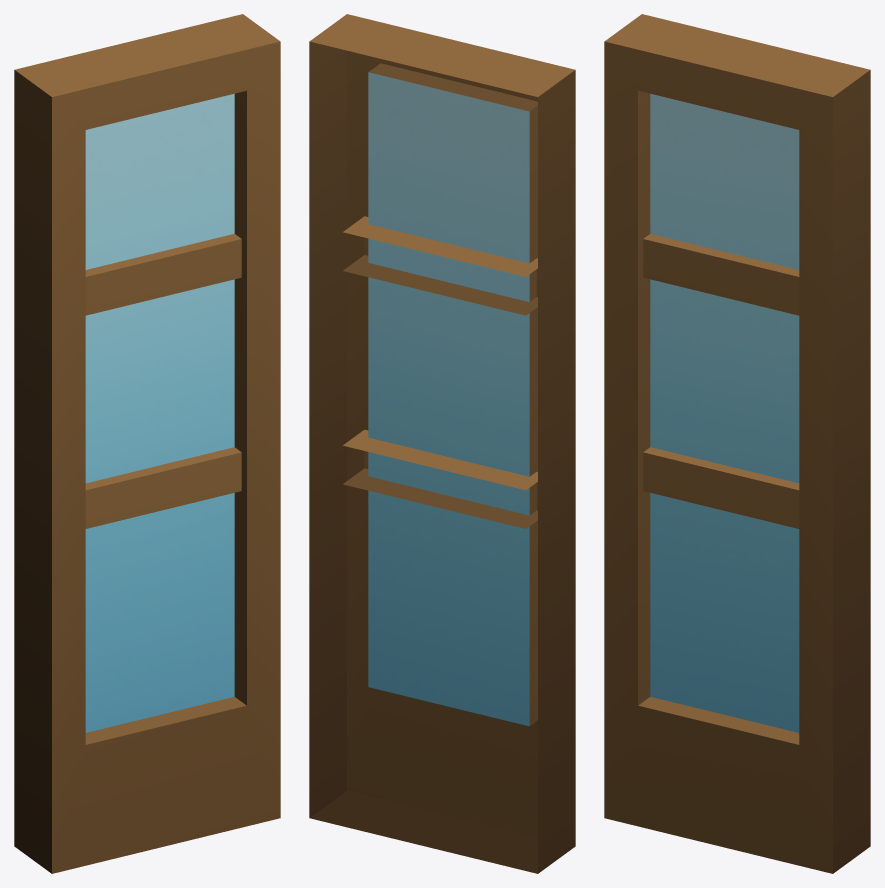
The model's file is Window_09C.fbx.
3 views of the same model, side by side, from view 1: azimuth 30°, elevation 25°; view 2: azimuth 150°, elevation 25°; view 3: azimuth 330°, elevation 25° (orthographic).
Visible parts, largest first — view 1: Window_09C; view 2: Window_09C; view 3: Window_09C.
Part boxes in pixels (x1=…): Window_09C: x1=14, y1=14, x2=280, y2=873; Window_09C: x1=309, y1=14, x2=575, y2=873; Window_09C: x1=604, y1=14, x2=870, y2=873.
Size of the model in its own units: 66.85 by 217 by 19.02.
2 materials, 2 textured.
